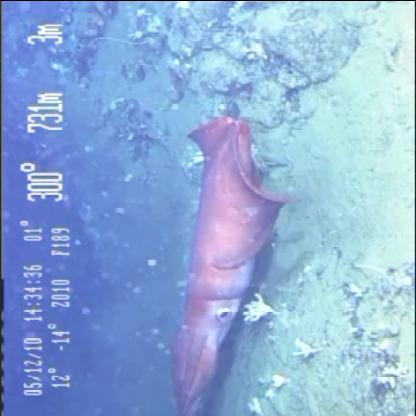Bio: (170, 113, 300, 415), (240, 290, 282, 324), (289, 334, 323, 364)
